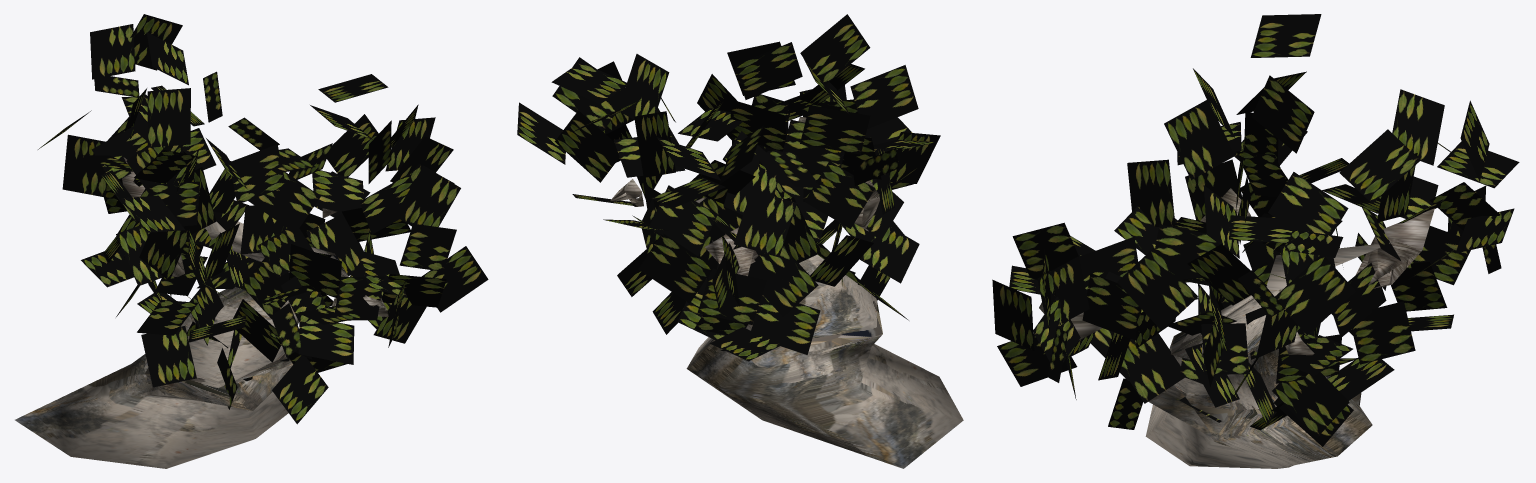
The model's file is tree-tall-06-lod2.glb.
The picture shows the model from 3 angles, left to right: view 1: azimuth 30°, elevation 25°; view 2: azimuth 150°, elevation 25°; view 3: azimuth 270°, elevation 25°; orthographic projection. The views are drawn at different scales.
Parts seen in each view (by area): view 1: tree-tall-06_MATERIAL_BATCH; view 2: tree-tall-06_MATERIAL_BATCH; view 3: tree-tall-06_MATERIAL_BATCH.
Part boxes in pixels (x1=…): tree-tall-06_MATERIAL_BATCH: x1=15, y1=14, x2=488, y2=468; tree-tall-06_MATERIAL_BATCH: x1=517, y1=14, x2=963, y2=468; tree-tall-06_MATERIAL_BATCH: x1=992, y1=14, x2=1519, y2=468.
Bounding box in the file's own units: 14.19 × 12.93 × 14.65.
Materials: 3 (3 with a texture image).
